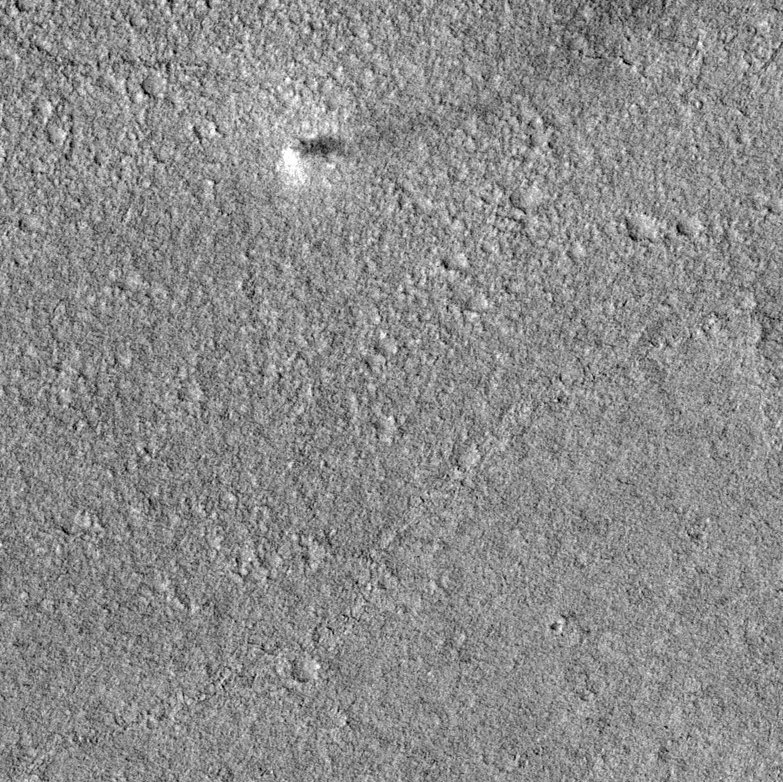dust_devil: (279, 131, 350, 186)
